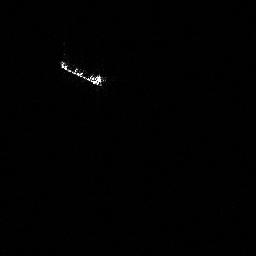ship: (56, 55, 111, 90)
